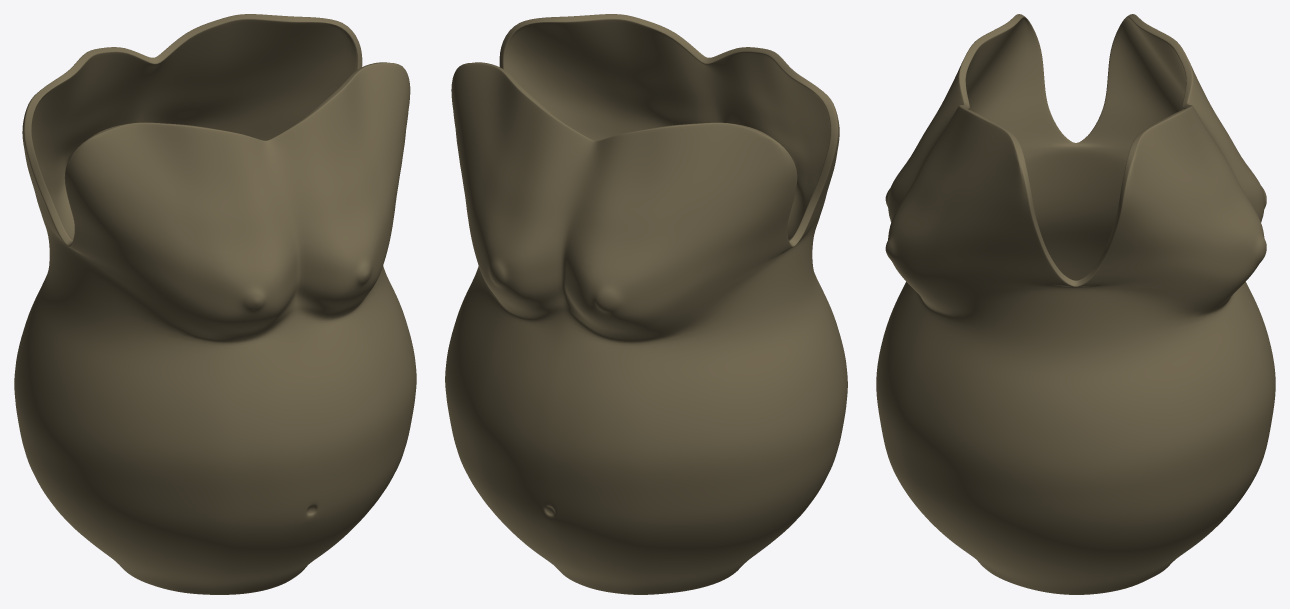
3 views of the same model, side by side, from view 1: azimuth 30°, elevation 25°; view 2: azimuth 150°, elevation 25°; view 3: azimuth 270°, elevation 25° (orthographic).
Visible parts, largest first — view 1: Cylinder001; view 2: Cylinder001; view 3: Cylinder001.
Boxes of the visible parts, x1,y1,x2,y2 form: Cylinder001: (14,14,416,594); Cylinder001: (445,14,847,594); Cylinder001: (876,14,1275,594).
Size of the model in its own units: 0.2442 by 0.3209 by 0.2434.
Materials: 1 (1 with a texture image).
